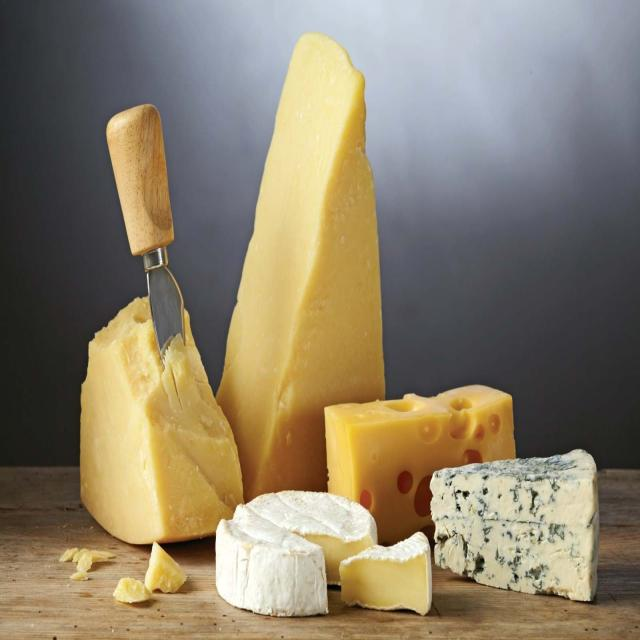Cheese: (214, 34, 387, 498), (75, 277, 242, 552), (320, 372, 527, 537), (428, 450, 602, 600), (338, 534, 434, 619), (60, 532, 113, 585), (143, 541, 190, 591), (114, 562, 153, 618)
